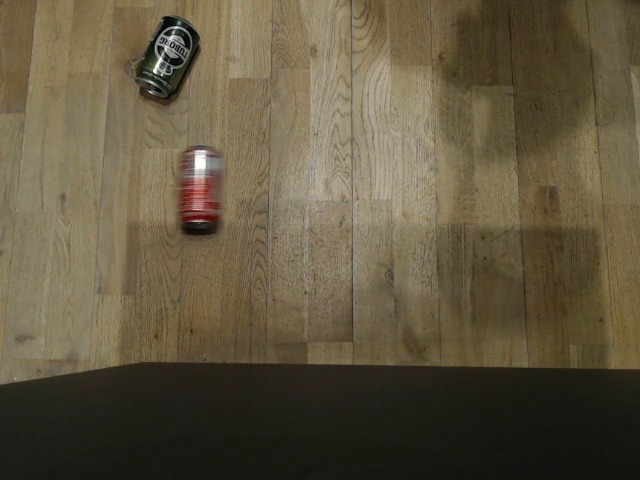beer: (133, 11, 201, 102)
cola: (175, 142, 227, 232)
